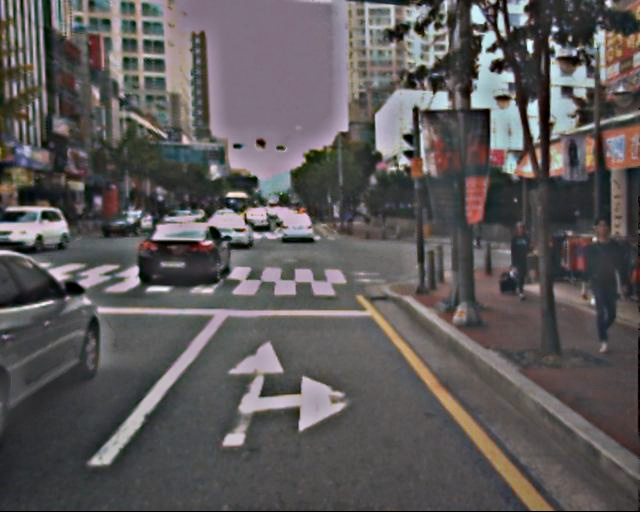person: (568, 218, 632, 353), (505, 219, 537, 300)
